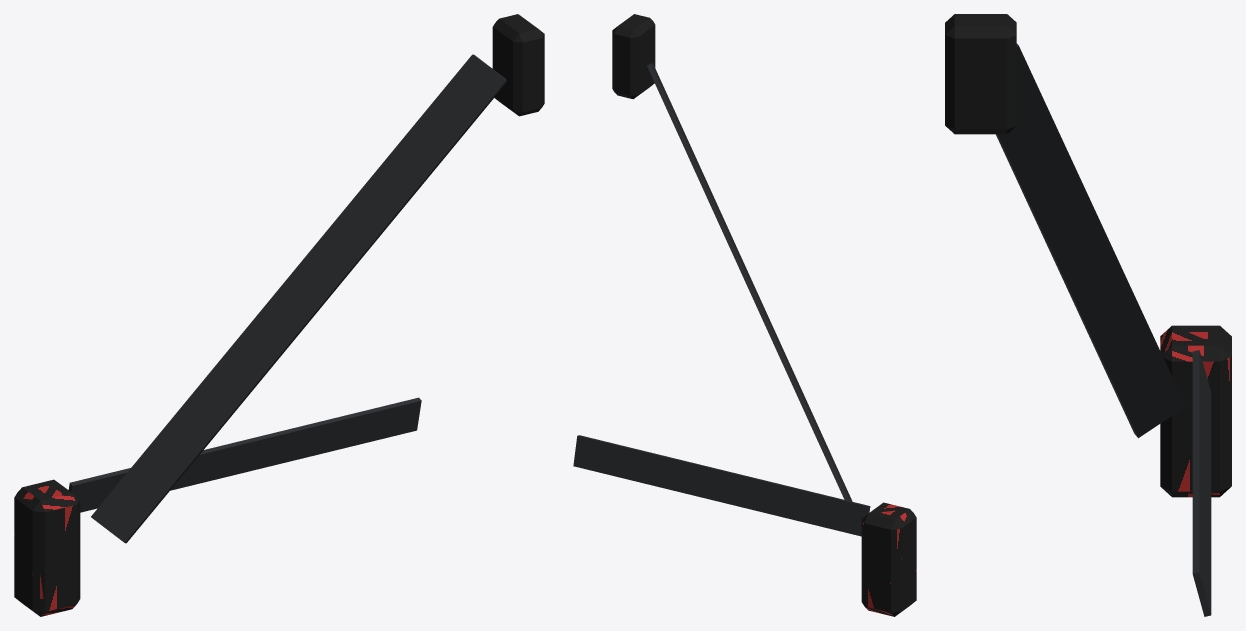
File: vp_seatbelt.glb
3 views of the same model, side by side, from view 1: azimuth 30°, elevation 25°; view 2: azimuth 150°, elevation 25°; view 3: azimuth 270°, elevation 25° (orthographic). The views are drawn at different scales.
Visible parts, largest first — view 1: block_shoulder, block_lap, block_buckle, block_anchor; view 2: block_lap, block_buckle, block_shoulder, block_anchor; view 3: block_shoulder, block_buckle, block_anchor, block_lap.
Part boxes in pixels (<box>): block_shoulder: <box>91,54,506,543</box>; block_lap: <box>68,397,421,512</box>; block_buckle: <box>14,479,80,616</box>; block_anchor: <box>492,14,544,116</box>; block_lap: <box>573,435,870,536</box>; block_buckle: <box>861,502,916,616</box>; block_shoulder: <box>647,63,852,501</box>; block_anchor: <box>612,14,655,99</box>; block_shoulder: <box>996,43,1185,438</box>; block_buckle: <box>1160,325,1231,497</box>; block_anchor: <box>945,14,1016,134</box>; block_lap: <box>1192,350,1211,616</box>.
Size of the model in its own units: 0.54 by 0.66 by 0.24.
1 material, 1 textured.
